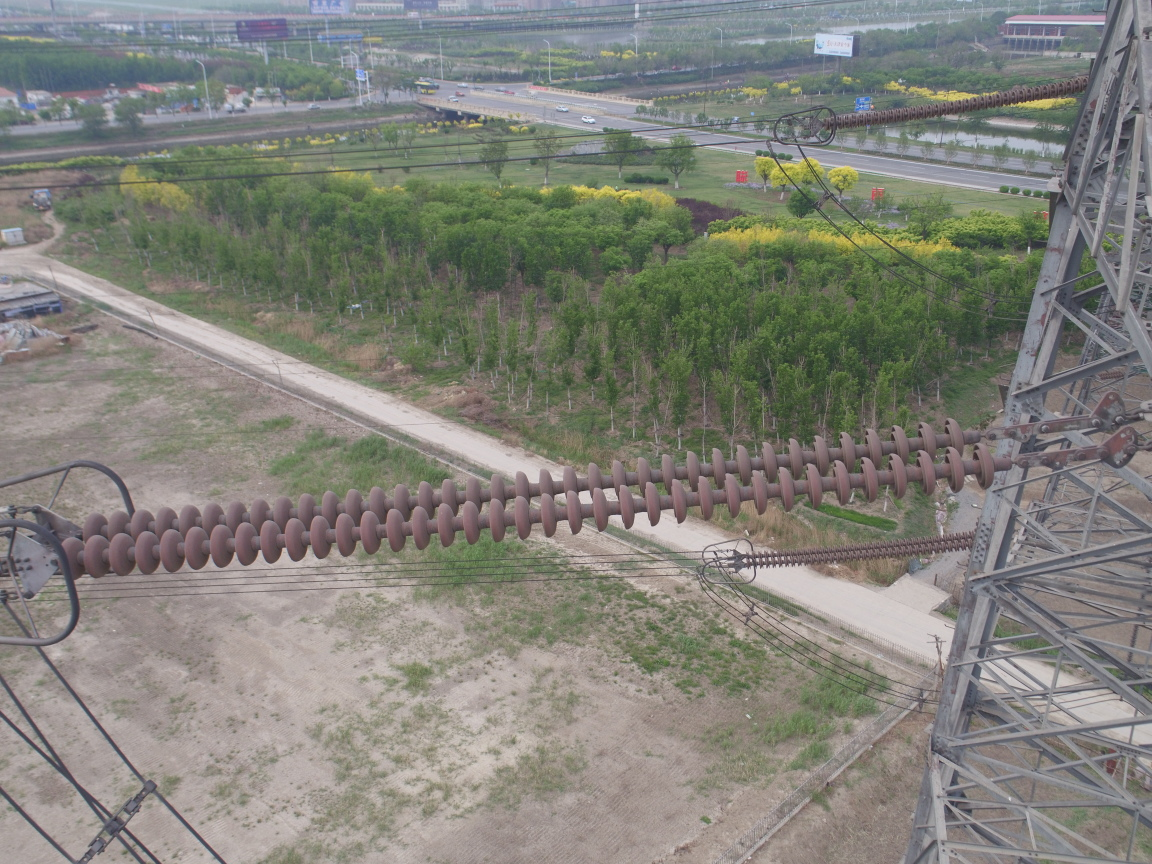insulator: (46, 410, 1059, 583), (819, 74, 1084, 132), (741, 529, 974, 569)
